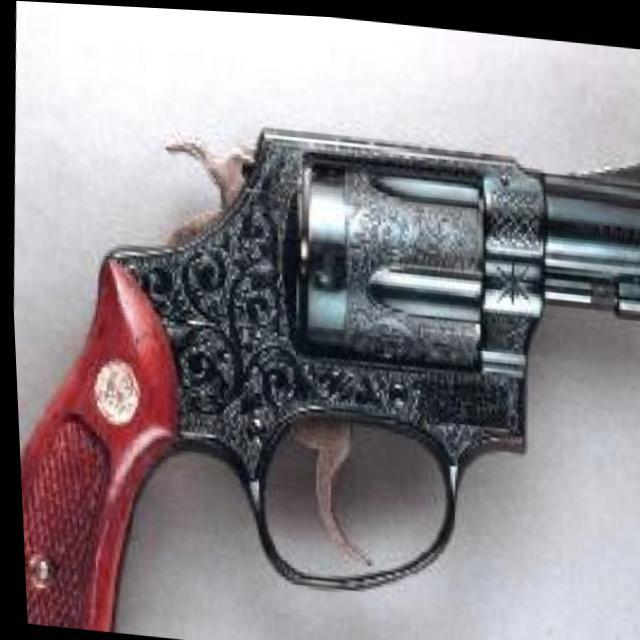weapon: (3, 87, 640, 640)
